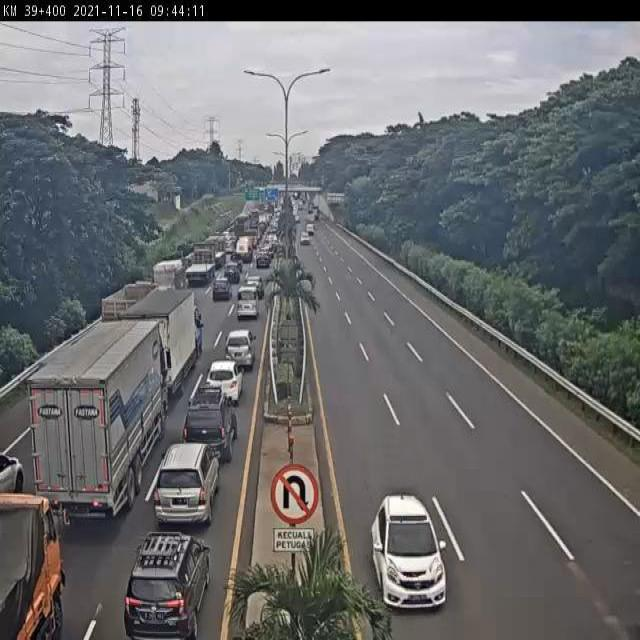car: (365, 500, 455, 609), (128, 526, 204, 634), (165, 440, 217, 529), (183, 387, 242, 461), (207, 358, 246, 406), (222, 323, 258, 369), (208, 278, 235, 306), (233, 288, 261, 315)
truck-l-: (30, 317, 172, 520), (184, 240, 218, 283)
truck-m-: (0, 489, 70, 640), (118, 284, 205, 391), (154, 259, 186, 293)
